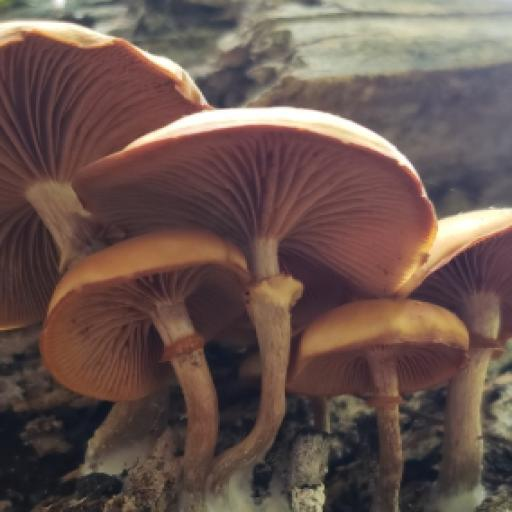mushroom: (3, 13, 512, 436)
